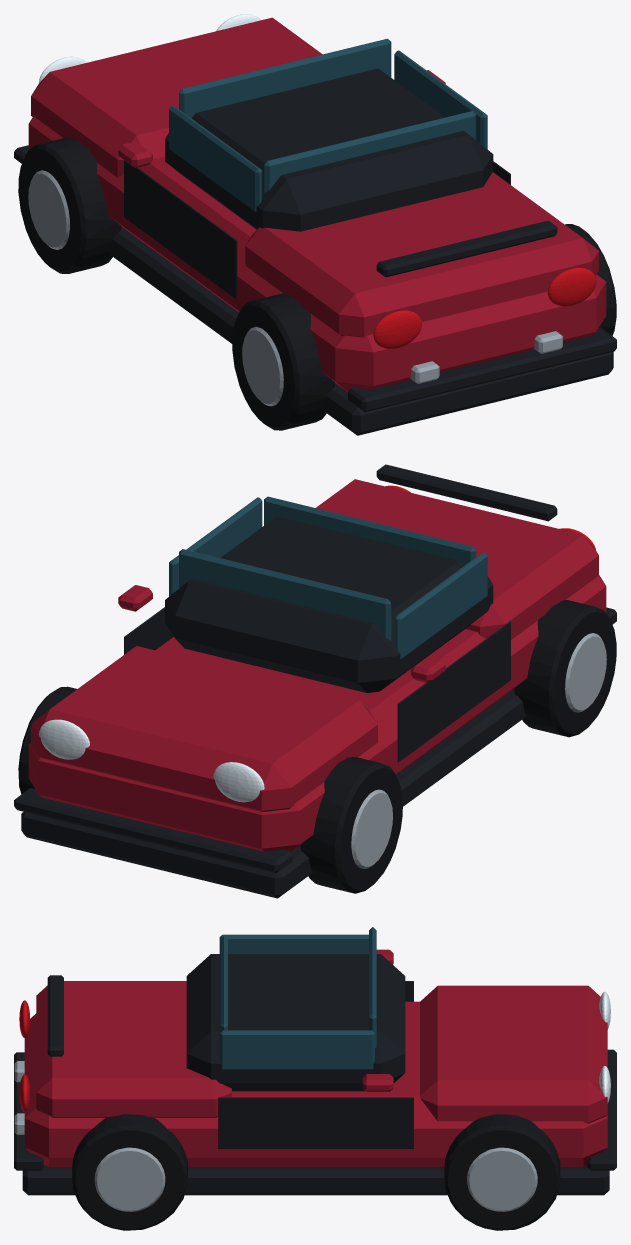
File: marsh_nsx91_detail_lod1.fbx
3 renders of one model, top to bottom at view 1: azimuth 30°, elevation 25°; view 2: azimuth 150°, elevation 25°; view 3: azimuth 270°, elevation 25°, orthographic. The views are drawn at different scales.
Visible parts, largest first — view 1: RearDeck, Cabin, Body, FrontWedge, Undertray, PerformanceTire, PerformanceTire.001, DoorSeam, Windshield, RearDiffuser, SideGlass, RearGlass (+8 smaller); view 2: FrontWedge, Cabin, Body, RearDeck, Undertray, PerformanceTire, PerformanceTire.001, DoorSeam, Windshield, FrontSplitter, SideGlass, RearGlass (+10 smaller); view 3: FrontWedge, Cabin, RearDeck, Body, Undertray, DoorSeam.001, PerformanceTire.003, PerformanceTire.002, SideGlass.001, AlloyWheel.002, AlloyWheel.003, SideGlass (+6 smaller).
Part boxes in pixels (x1=…): RearDeck: x1=245, y1=172, x2=598, y2=337; Cabin: x1=165, y1=68, x2=493, y2=231; Body: x1=28, y1=117, x2=606, y2=391; FrontWedge: x1=31, y1=17, x2=322, y2=177; Undertray: x1=109, y1=226, x2=613, y2=435; PerformanceTire: x1=232, y1=293, x2=334, y2=430; PerformanceTire.001: x1=18, y1=137, x2=121, y2=273; DoorSeam: x1=124, y1=160, x2=237, y2=299; Windshield: x1=179, y1=38, x2=391, y2=118; RearDiffuser: x1=348, y1=327, x2=616, y2=412; SideGlass: x1=169, y1=105, x2=262, y2=211; RearGlass: x1=264, y1=111, x2=476, y2=192; FrontWedge: x1=31, y1=646, x2=377, y2=811; Cabin: x1=165, y1=516, x2=493, y2=692; Body: x1=28, y1=575, x2=606, y2=852; RearDeck: x1=316, y1=479, x2=598, y2=639; Undertray: x1=21, y1=689, x2=526, y2=898; PerformanceTire: x1=514, y1=600, x2=616, y2=737; PerformanceTire.001: x1=300, y1=757, x2=402, y2=893; DoorSeam: x1=397, y1=621, x2=510, y2=762; Windshield: x1=179, y1=549, x2=391, y2=640; FrontSplitter: x1=14, y1=788, x2=292, y2=873; SideGlass: x1=394, y1=552, x2=487, y2=658; RearGlass: x1=264, y1=496, x2=476, y2=566; FrontWedge: x1=420, y1=985, x2=607, y2=1123; Cabin: x1=186, y1=954, x2=405, y2=1091; RearDeck: x1=36, y1=981, x2=231, y2=1117; Body: x1=24, y1=1001, x2=607, y2=1166; Undertray: x1=22, y1=1165, x2=609, y2=1195; DoorSeam.001: x1=218, y1=1097, x2=413, y2=1148; PerformanceTire.003: x1=444, y1=1114, x2=560, y2=1230; PerformanceTire.002: x1=72, y1=1114, x2=187, y2=1230; SideGlass.001: x1=219, y1=1030, x2=374, y2=1069; AlloyWheel.002: x1=94, y1=1147, x2=165, y2=1211; AlloyWheel.003: x1=467, y1=1147, x2=537, y2=1211; SideGlass: x1=219, y1=934, x2=368, y2=953.
Size of the model in its own units: 2.44 by 1.58 by 4.47.
